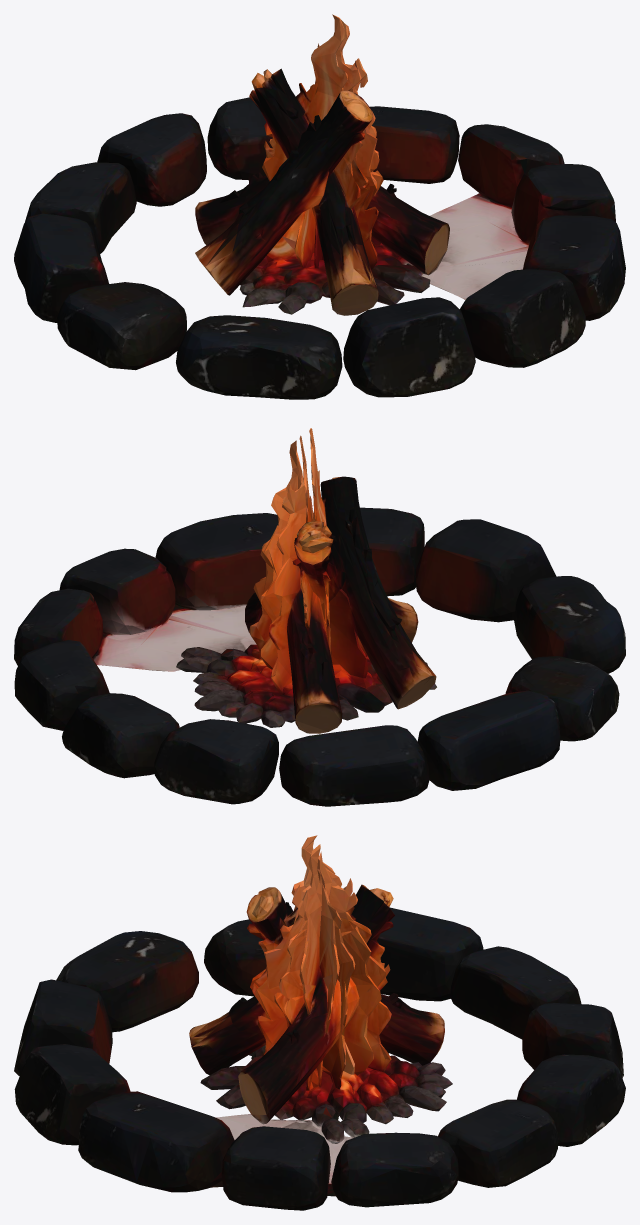
The model's file is ch03_street_campfire.glb.
3 views of the same model, one above another, from view 1: azimuth 30°, elevation 25°; view 2: azimuth 150°, elevation 25°; view 3: azimuth 270°, elevation 25° (orthographic). The views are drawn at different scales.
Parts seen in each view (by area): view 1: material; view 2: material; view 3: material.
Boxes of the visible parts, x1,y1,x2,y2 form: material: (14, 14, 625, 399); material: (14, 428, 625, 806); material: (14, 835, 625, 1210).
Size of the model in its own units: 1.08 by 0.4993 by 1.08.
Materials: 1 (1 with a texture image).
